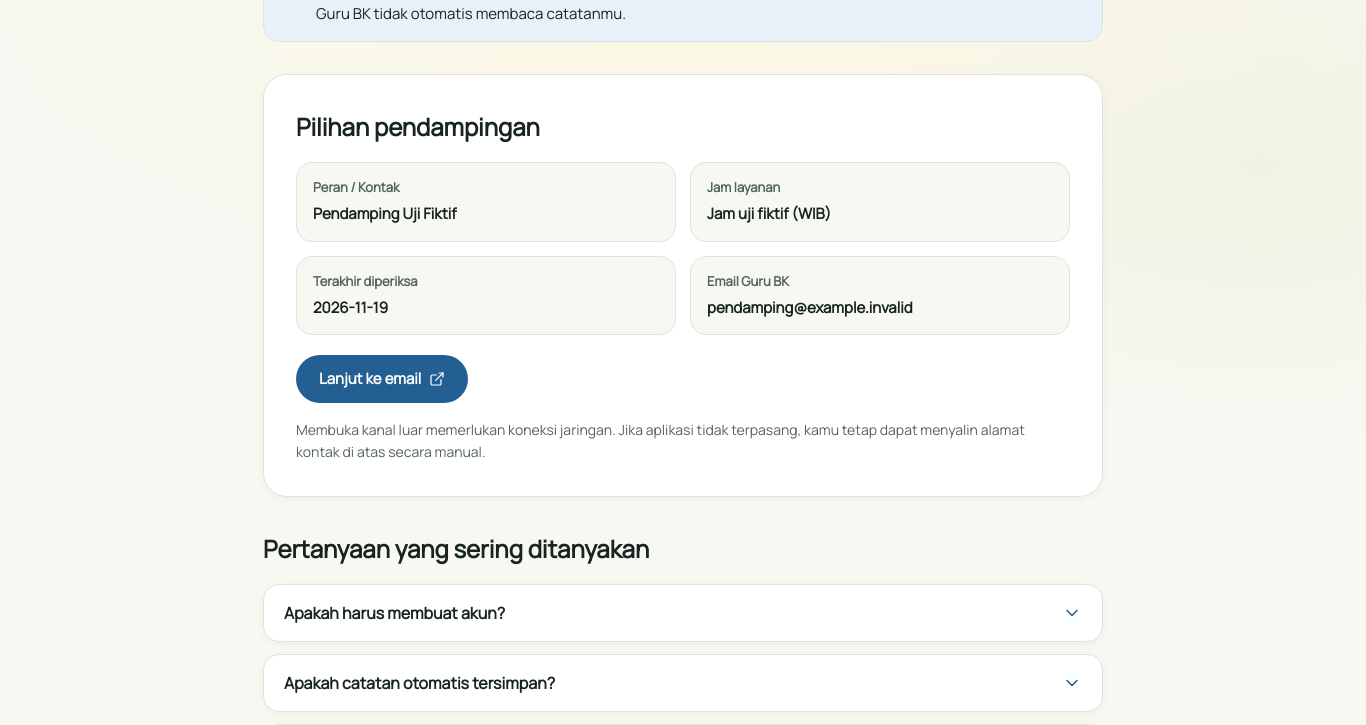
Test: AT-10/11: kontak terkonfigurasi membuka O05; batal tidak membuka kanal dan lanjut tidak melampirkan jurnal
Later steps or results of the test are not shown.
(page scrolled)
Click the button "Lanjut ke email" at (382, 379), box [296, 355, 468, 403]
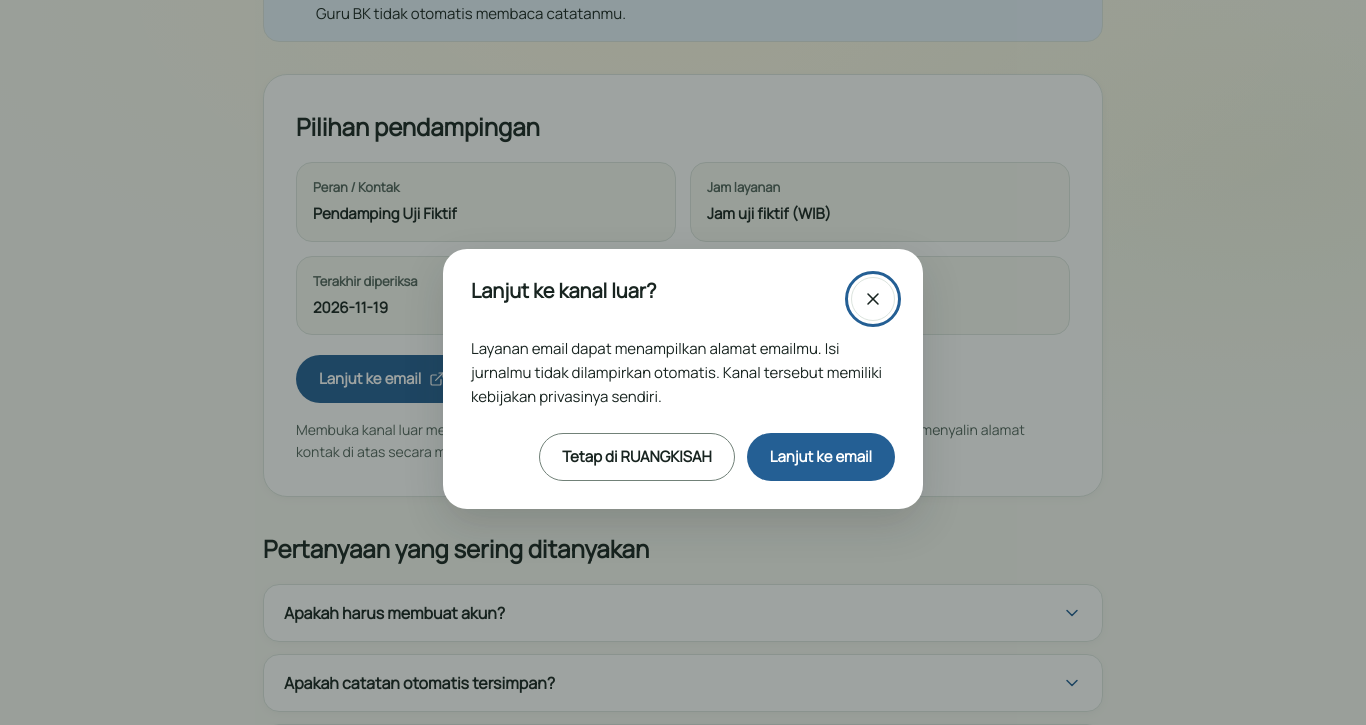
Expected: the dialog shows "alamat email", [471, 338, 822, 359]
Click the button "Tetap di RUANGKISAH" at (637, 457), box [539, 433, 735, 481]
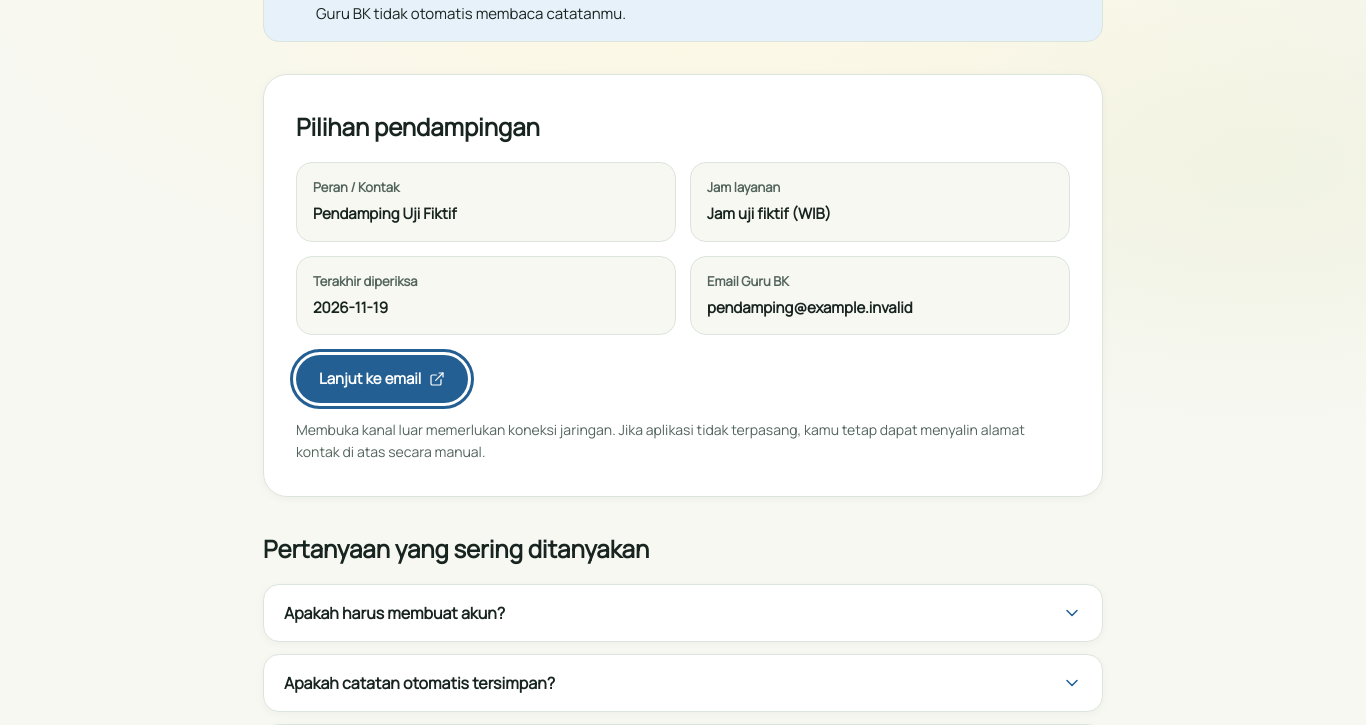
Expected: the dialog is gone
